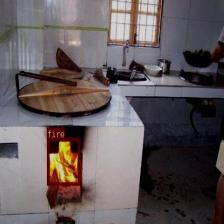fire: (46, 138, 80, 184)
